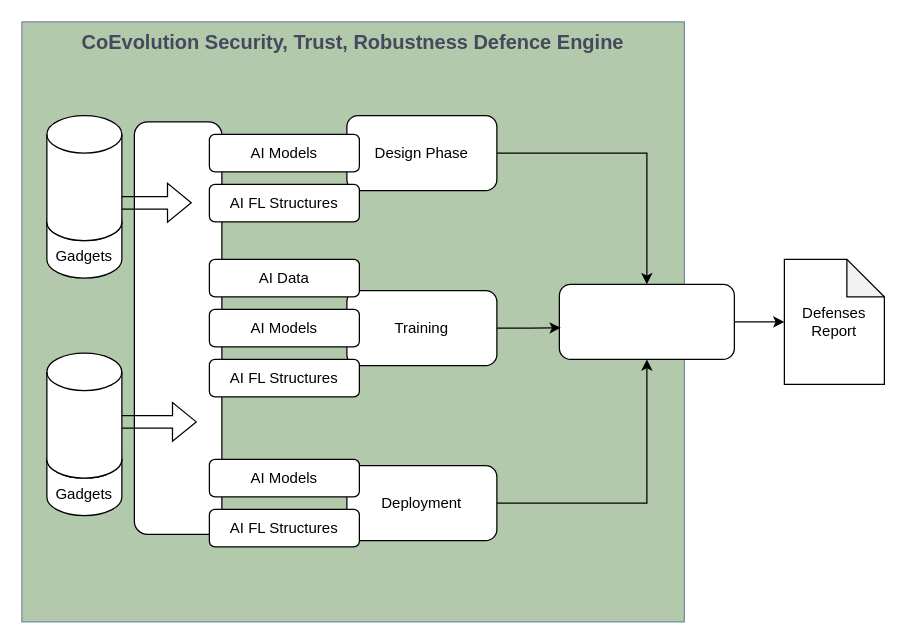
This 906x644 diagram has some shape labels left out. Each missing label, with the centre of its shape:
"Defense Hardware Libraries" goes at (x=84, y=415).
"Defense Software Libraries" goes at (x=84, y=177).
"Guidelines" goes at (x=177, y=327).
"Information Collection and Reporting Mechanism" goes at (x=646, y=321).
